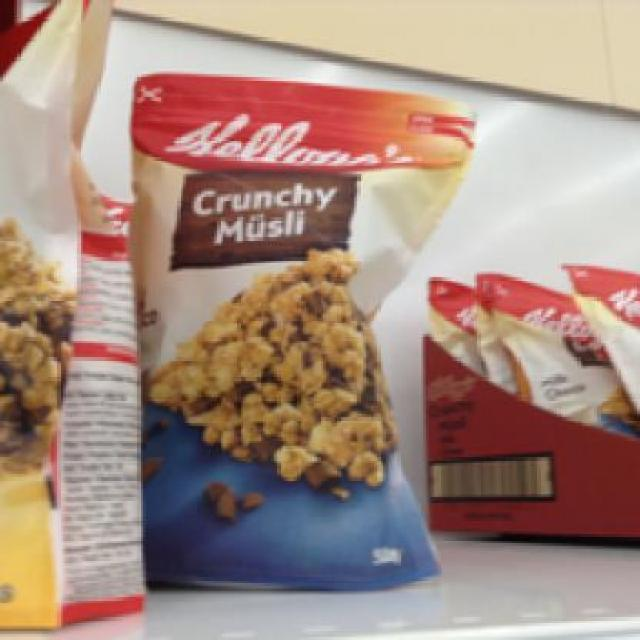Cereal: (125, 71, 478, 592)
